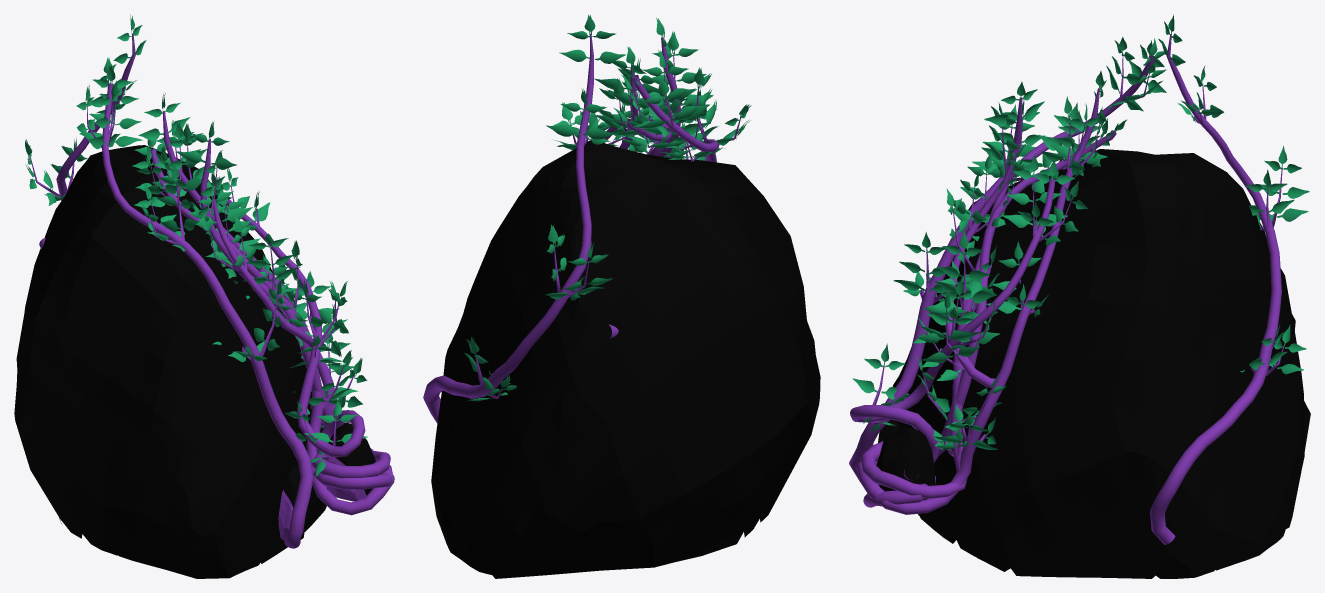
File: rocher_devant_racine.fbx
3 views of the same model, side by side, from view 1: azimuth 30°, elevation 25°; view 2: azimuth 150°, elevation 25°; view 3: azimuth 270°, elevation 25° (orthographic). The views are drawn at different scales.
Parts seen in each view (by area): view 1: rocher_devant; view 2: rocher_devant; view 3: rocher_devant.
Part boxes in pixels (x1=…): rocher_devant: x1=14, y1=14, x2=394, y2=578; rocher_devant: x1=423, y1=14, x2=820, y2=578; rocher_devant: x1=849, y1=14, x2=1310, y2=578.
Bounding box in the file's own units: 714 × 1070 × 899.
